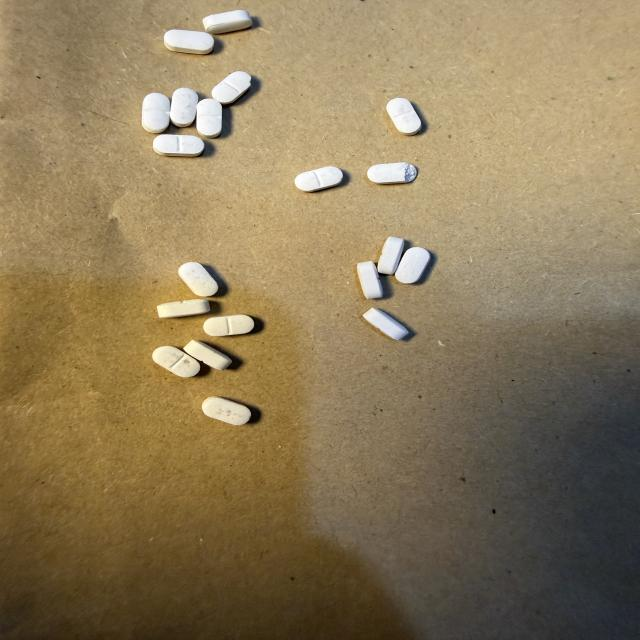pill: (363, 308, 408, 340), (153, 346, 199, 377), (202, 397, 251, 425), (184, 341, 231, 370), (178, 263, 218, 296), (212, 71, 251, 104), (395, 247, 430, 283), (387, 98, 421, 135), (295, 167, 343, 192), (165, 30, 214, 54), (203, 10, 252, 34), (142, 93, 170, 133), (170, 88, 198, 127), (154, 135, 204, 156), (367, 163, 417, 184), (204, 315, 254, 336), (196, 99, 222, 137), (378, 237, 404, 274), (157, 299, 210, 317), (357, 261, 382, 299)
